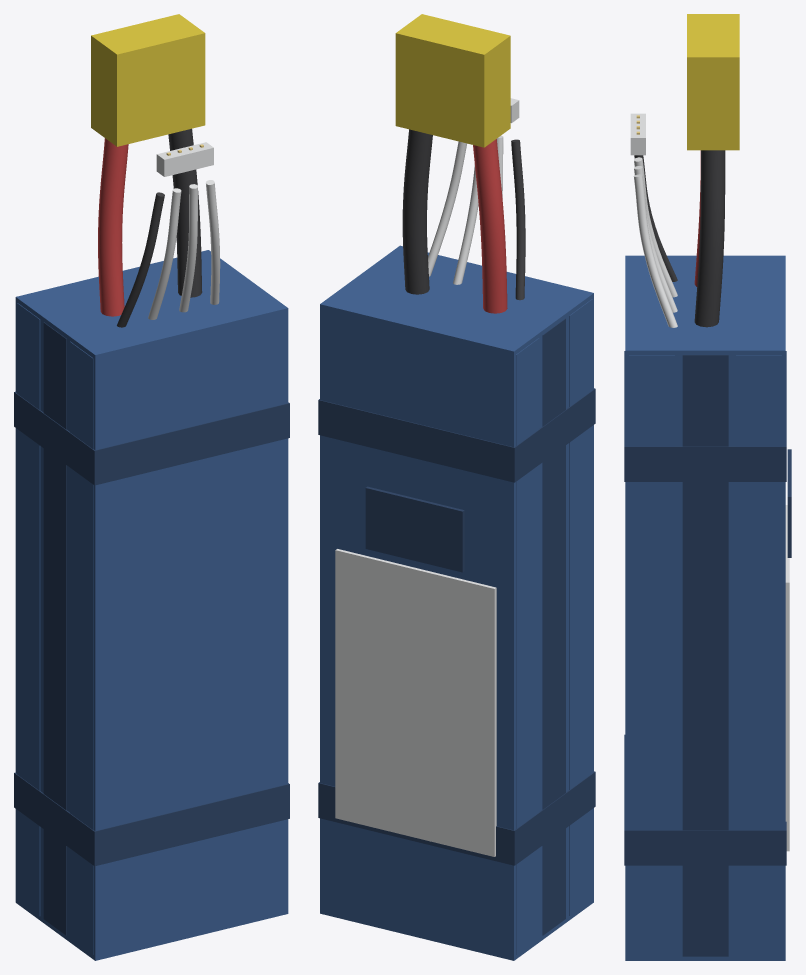
The model's file is bateria.glb.
The picture shows the model from 3 angles, left to right: view 1: azimuth 30°, elevation 25°; view 2: azimuth 150°, elevation 25°; view 3: azimuth 270°, elevation 25°; orthographic projection.
Visible parts, largest first — view 1: BateriaLiPo; view 2: BateriaLiPo; view 3: BateriaLiPo.
Part boxes in pixels (<box>): BateriaLiPo: <box>14,14,289,960</box>; BateriaLiPo: <box>318,14,595,960</box>; BateriaLiPo: <box>624,14,791,960</box>.
Bounding box in the file's own units: 0.0354 × 0.151 × 0.026.
